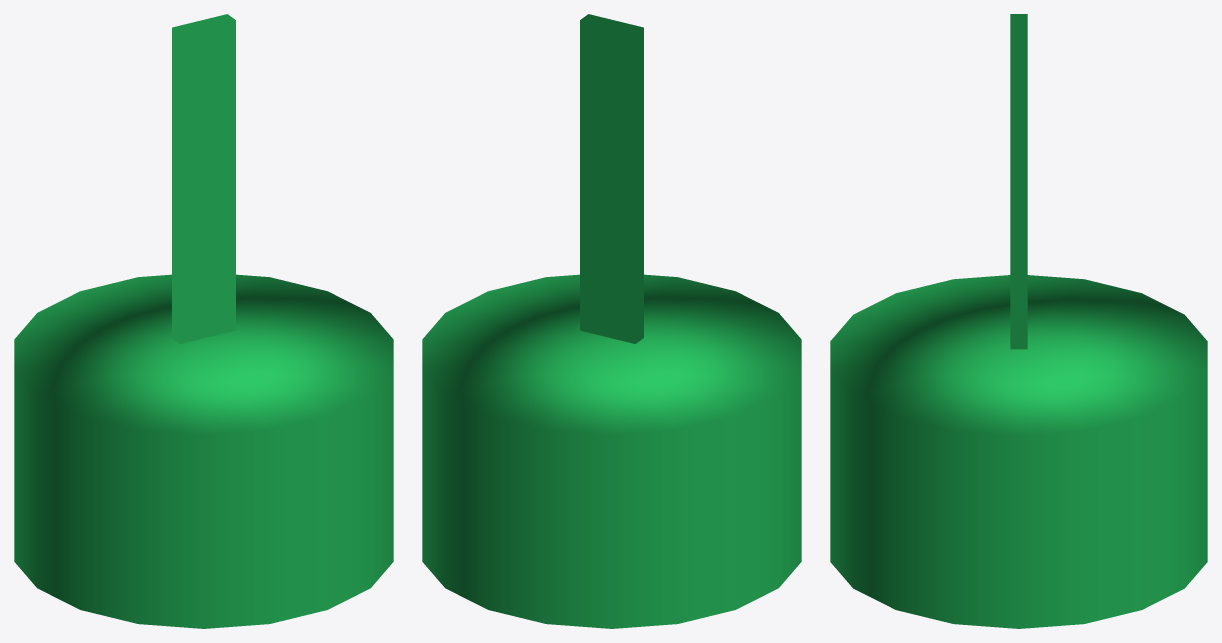
File: plant.obj
The picture shows the model from 3 angles, left to right: view 1: azimuth 30°, elevation 25°; view 2: azimuth 150°, elevation 25°; view 3: azimuth 270°, elevation 25°; orthographic projection.
Parts seen in each view (by area): view 1: plant; view 2: plant; view 3: plant.
Part boxes in pixels (x1,y1,x2,y2): plant: [14, 14, 393, 628]; plant: [422, 14, 801, 628]; plant: [830, 14, 1207, 628].
Size of the model in its own units: 1.8 by 2.7 by 1.77.
